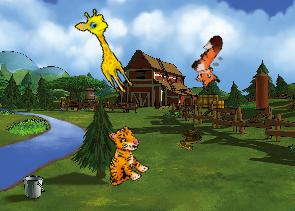fox: (182, 32, 241, 94)
giraffe: (71, 5, 144, 97)
tiger: (90, 123, 155, 191)
